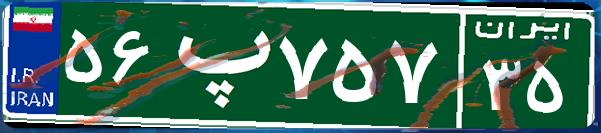3: (475, 38, 525, 113)
5: (330, 28, 385, 110), (57, 26, 110, 107), (525, 38, 570, 115)
6: (110, 28, 158, 105)
7: (385, 28, 445, 110), (273, 28, 330, 110)
پ: (158, 15, 273, 115)
